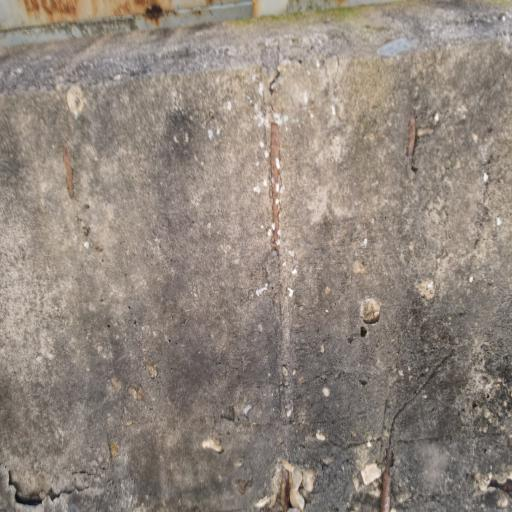exposed_rebar: (271, 123, 280, 251), (381, 448, 393, 512), (63, 140, 74, 197), (407, 110, 416, 167), (281, 469, 290, 512)
